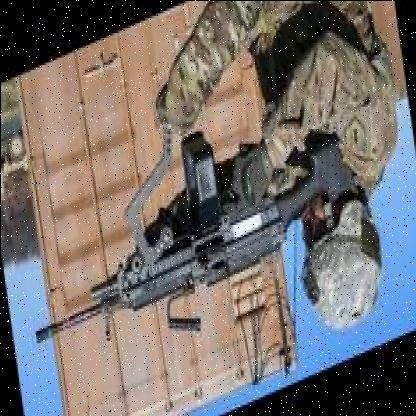rifle: (18, 131, 349, 380)
